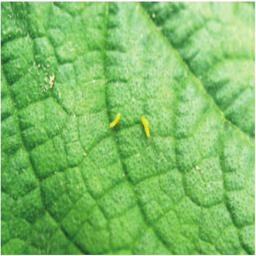liriomyza: (138, 113, 151, 138), (107, 109, 121, 128)
